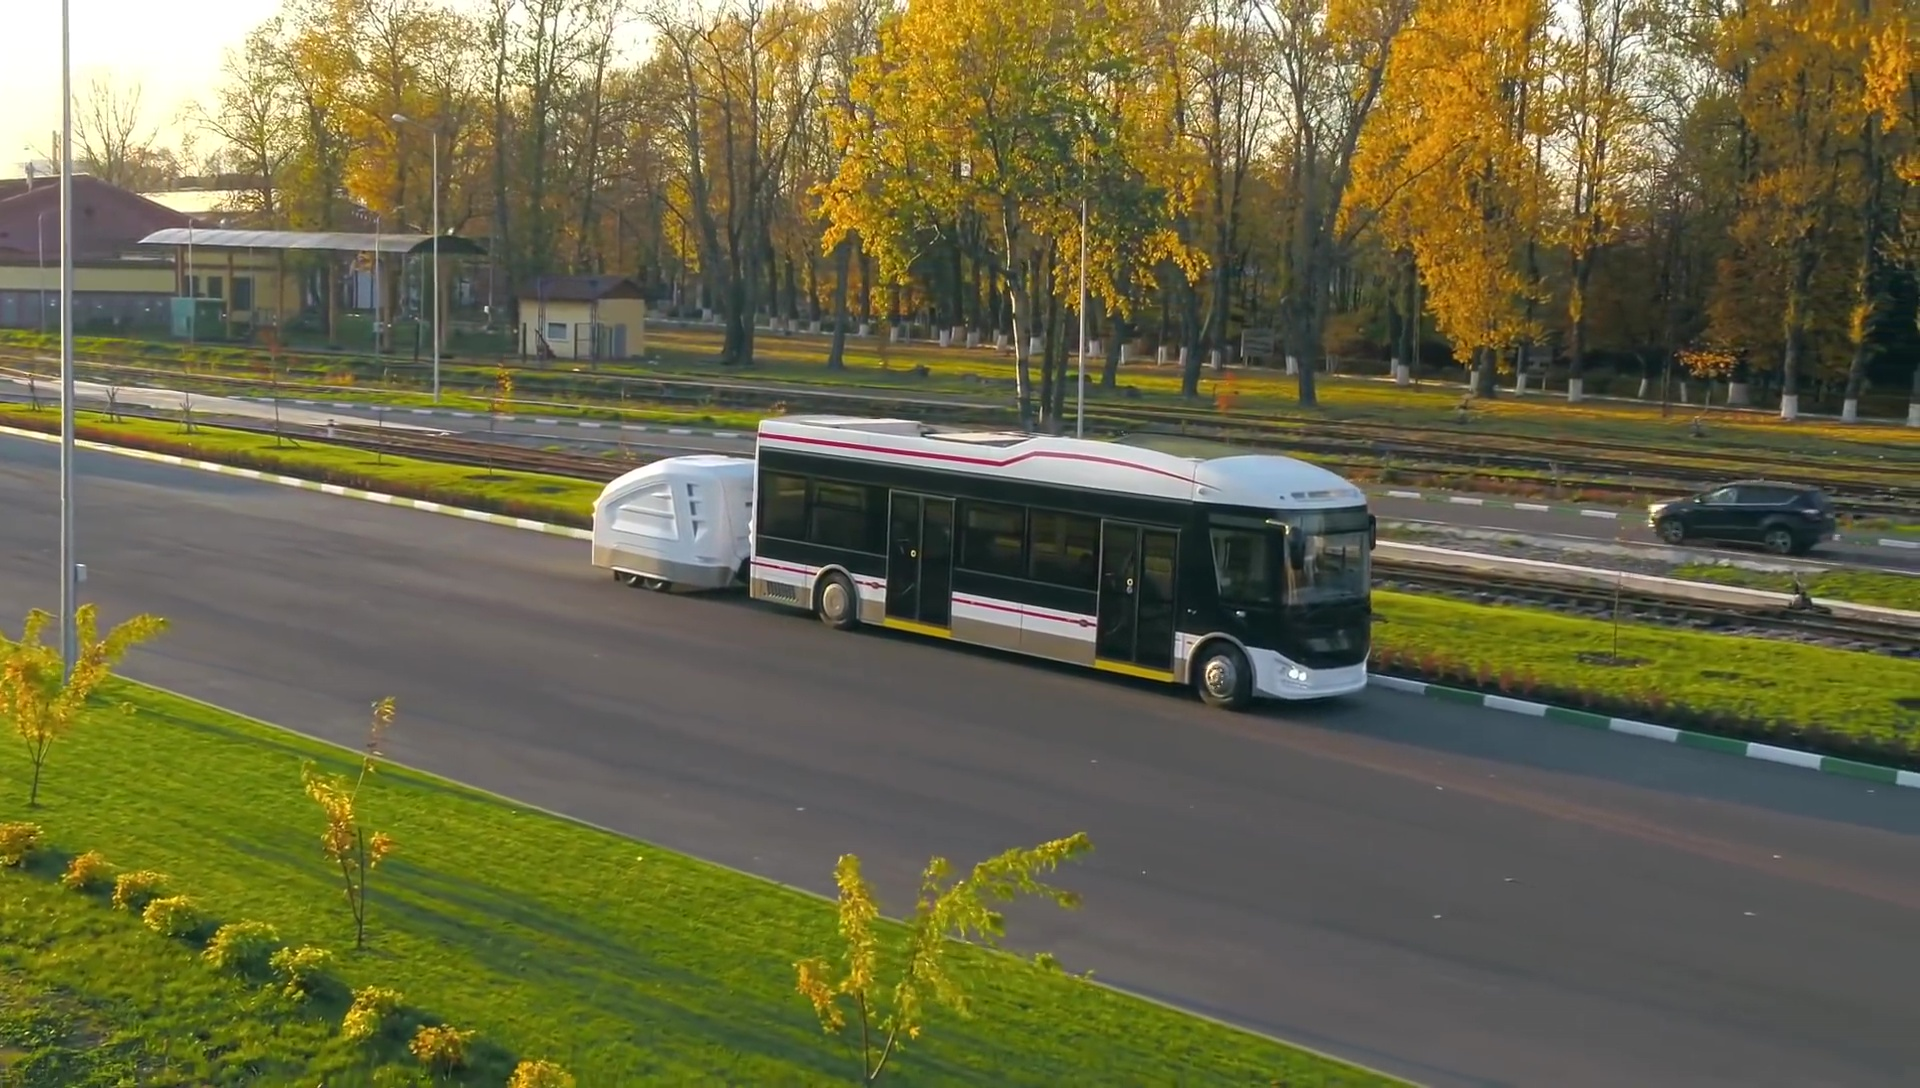car: (1640, 477, 1836, 555)
